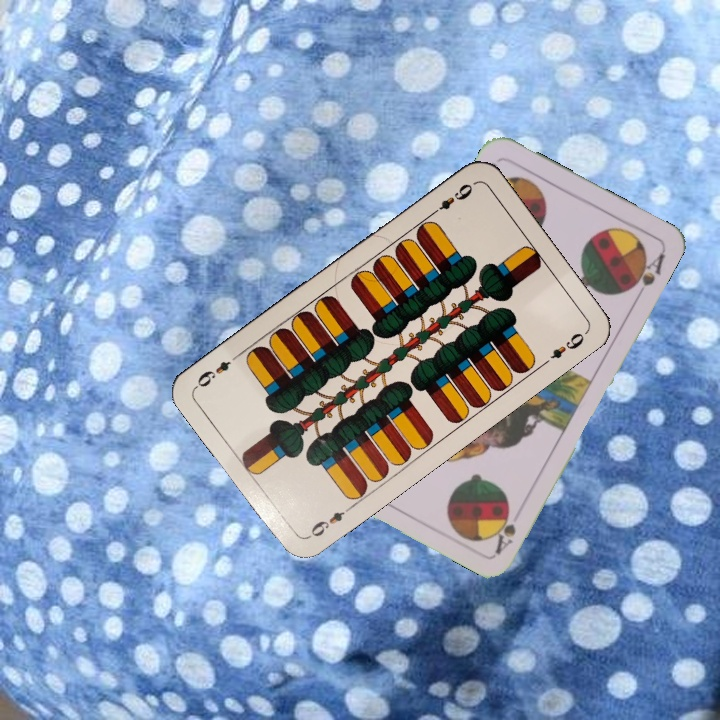E9: (303, 502, 356, 542), (426, 179, 476, 219)
SA: (491, 505, 519, 556)
